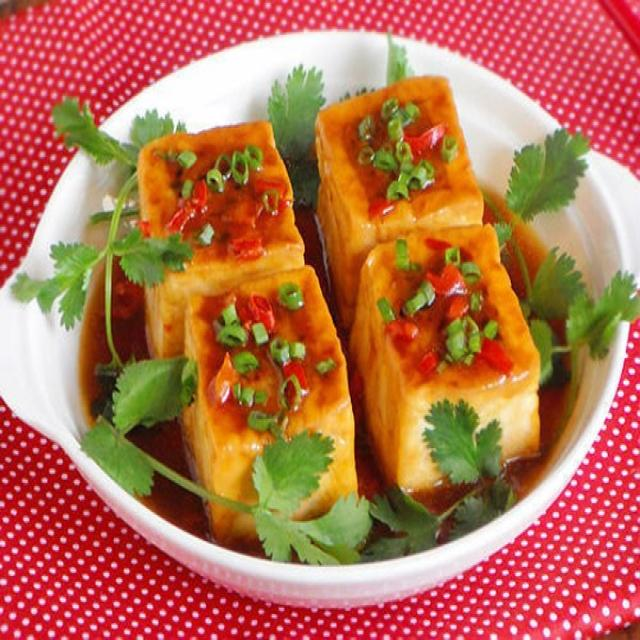dau hu: (138, 123, 370, 559), (316, 76, 541, 494)
